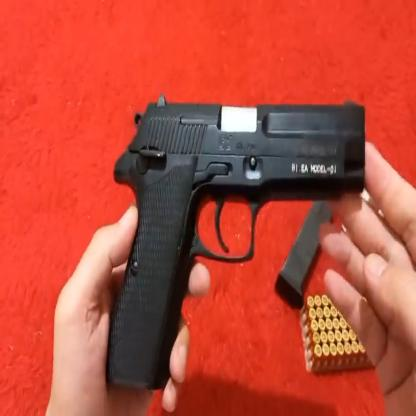handgun: (97, 96, 370, 391)
